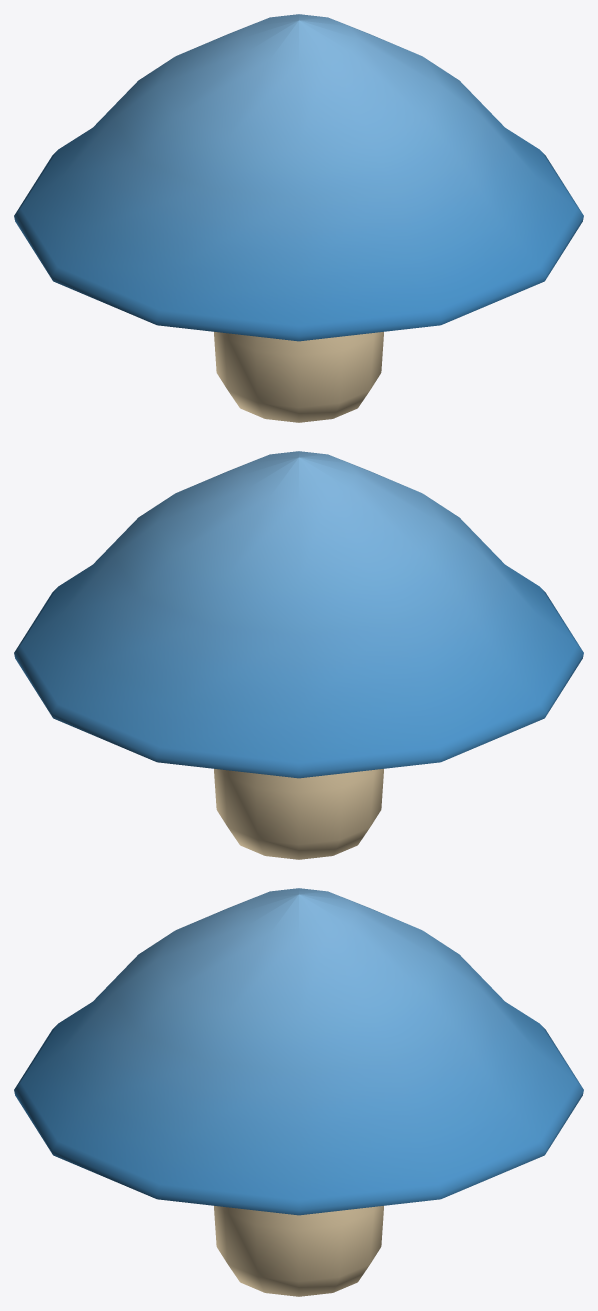
File: Mashroom_2.fbx
The picture shows the model from 3 angles, top to bottom: view 1: azimuth 30°, elevation 25°; view 2: azimuth 150°, elevation 25°; view 3: azimuth 270°, elevation 25°; orthographic projection.
Visible parts, largest first — view 1: Mashroom_2; view 2: Mashroom_2; view 3: Mashroom_2.
Boxes of the visible parts, x1,y1,x2,y2 form: Mashroom_2: [14, 14, 583, 422]; Mashroom_2: [14, 451, 583, 859]; Mashroom_2: [14, 888, 583, 1296].
Bounding box in the file's own units: 0.2614 × 0.1931 × 0.2614.
